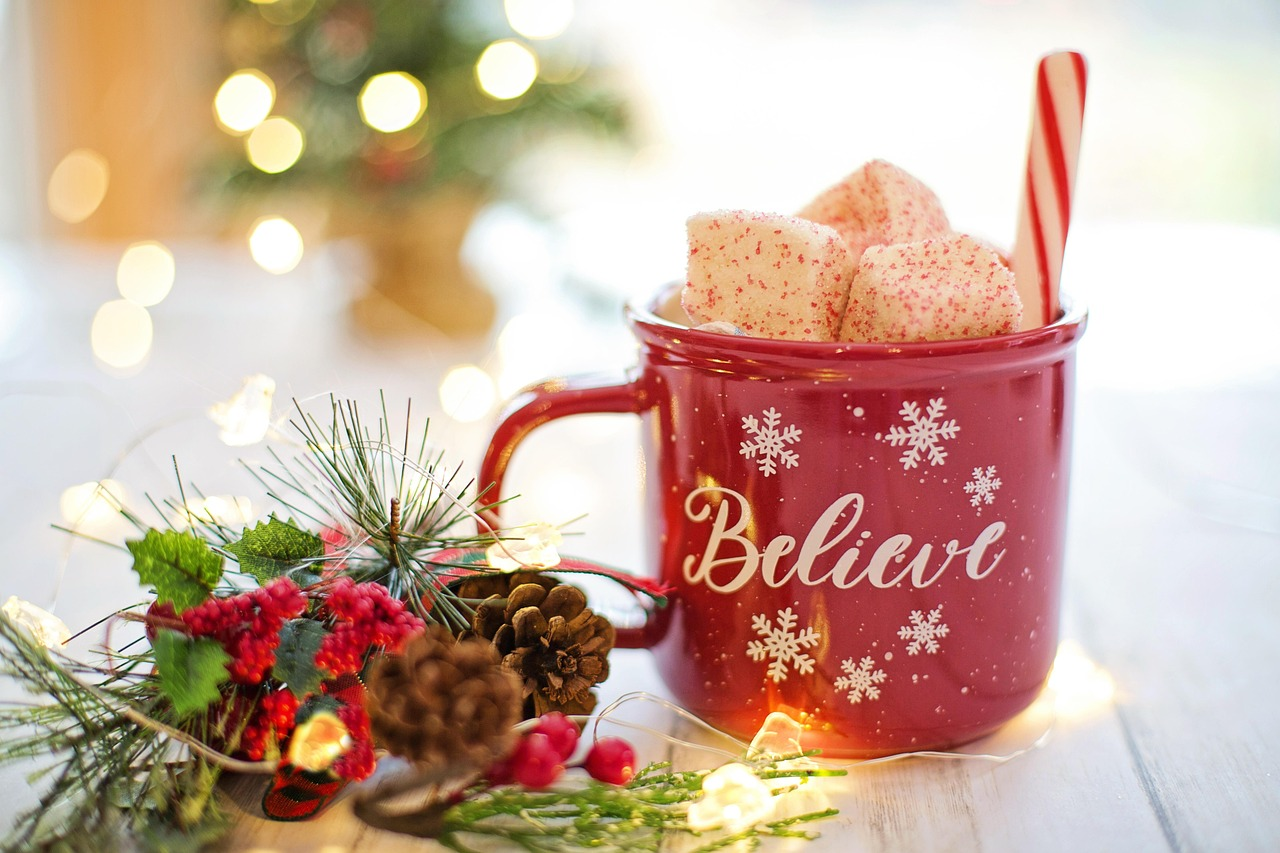mug: (441, 243, 1104, 776)
